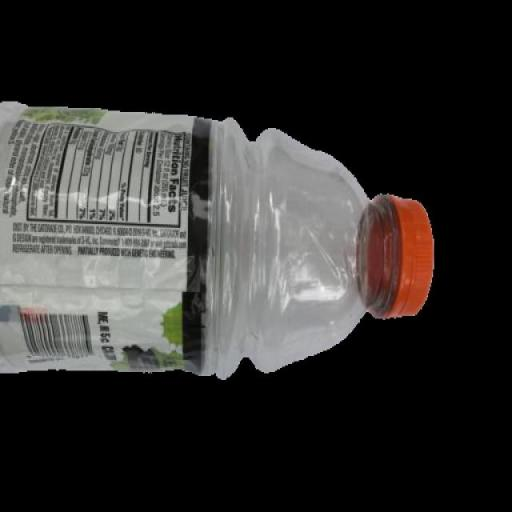plastic: (0, 95, 438, 383)
